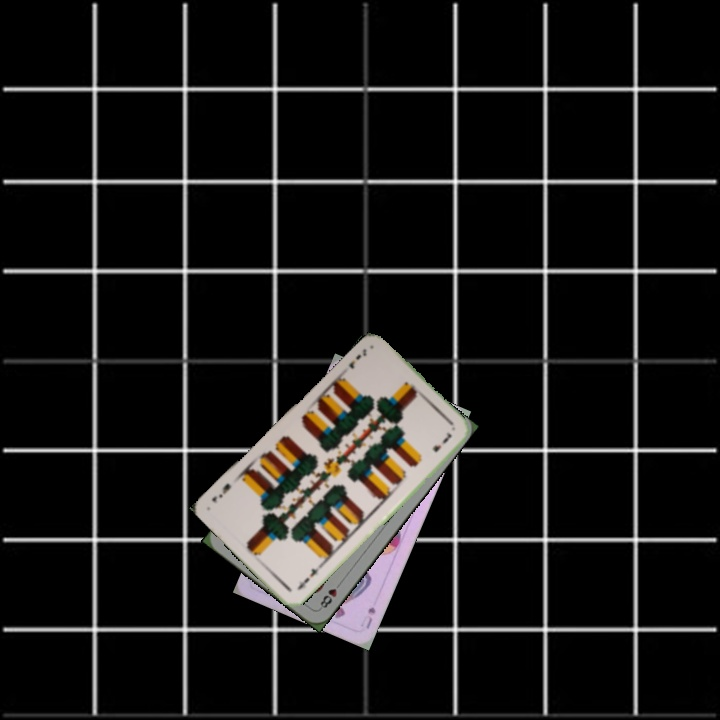E7: (293, 561, 324, 593), (345, 345, 369, 371)
H8: (315, 577, 344, 612)
SU: (356, 603, 378, 632)
